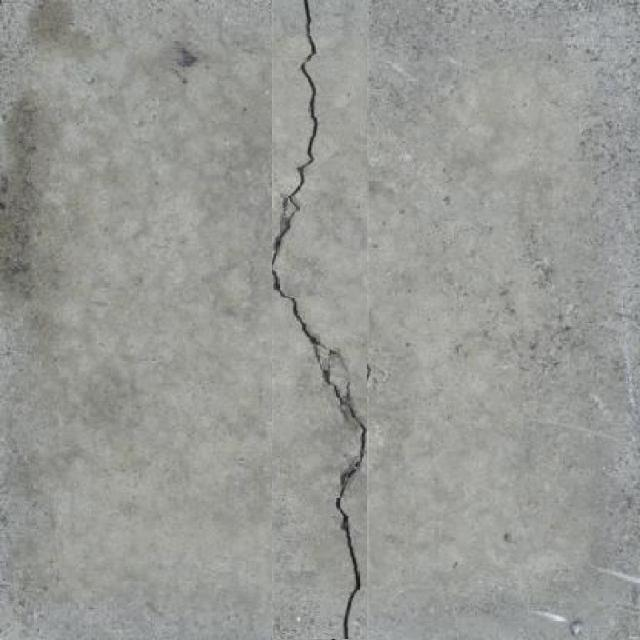vertical crack: (273, 0, 367, 639)
